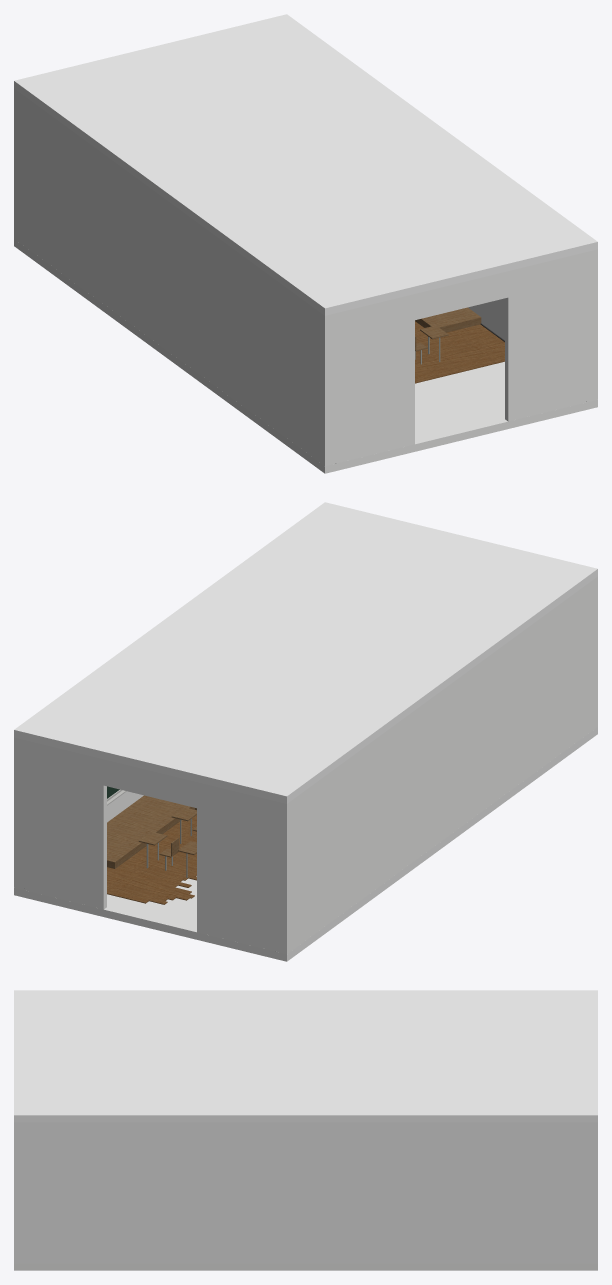
Rendered from room_classroom_s2.glb.
The picture shows the model from 3 angles, top to bottom: view 1: azimuth 30°, elevation 25°; view 2: azimuth 150°, elevation 25°; view 3: azimuth 270°, elevation 25°; orthographic projection. The views are drawn at different scales.
Parts seen in each view (by area): view 1: room_classroom_s2_static; view 2: room_classroom_s2_static; view 3: room_classroom_s2_static.
Part boxes in pixels (left/top/right/bottom): room_classroom_s2_static: left=14, top=14, right=597, bottom=473; room_classroom_s2_static: left=14, top=502, right=597, bottom=961; room_classroom_s2_static: left=14, top=990, right=597, bottom=1270.
Size of the model in its own units: 7.6 by 4.4 by 15.
Materials: 16 (3 with a texture image).
